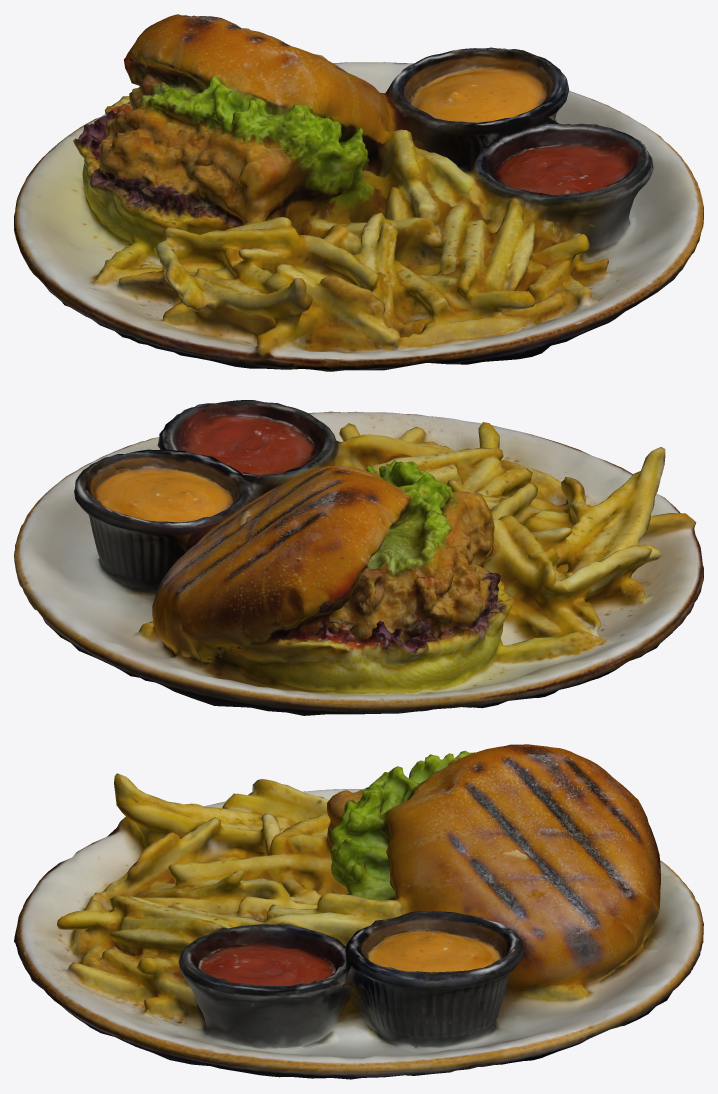
File: crispyChickenBurger_1752057967758.glb
The picture shows the model from 3 angles, top to bottom: view 1: azimuth 30°, elevation 25°; view 2: azimuth 150°, elevation 25°; view 3: azimuth 270°, elevation 25°; orthographic projection.
Visible parts, largest first — view 1: 3DModel_Custom; view 2: 3DModel_Custom; view 3: 3DModel_Custom.
Boxes of the visible parts, <box> form: 3DModel_Custom: <box>14,14,703,371</box>; 3DModel_Custom: <box>14,400,703,715</box>; 3DModel_Custom: <box>14,744,703,1079</box>.
Size of the model in its own units: 0.2752 by 0.0799 by 0.2759.
Materials: 1 (1 with a texture image).
